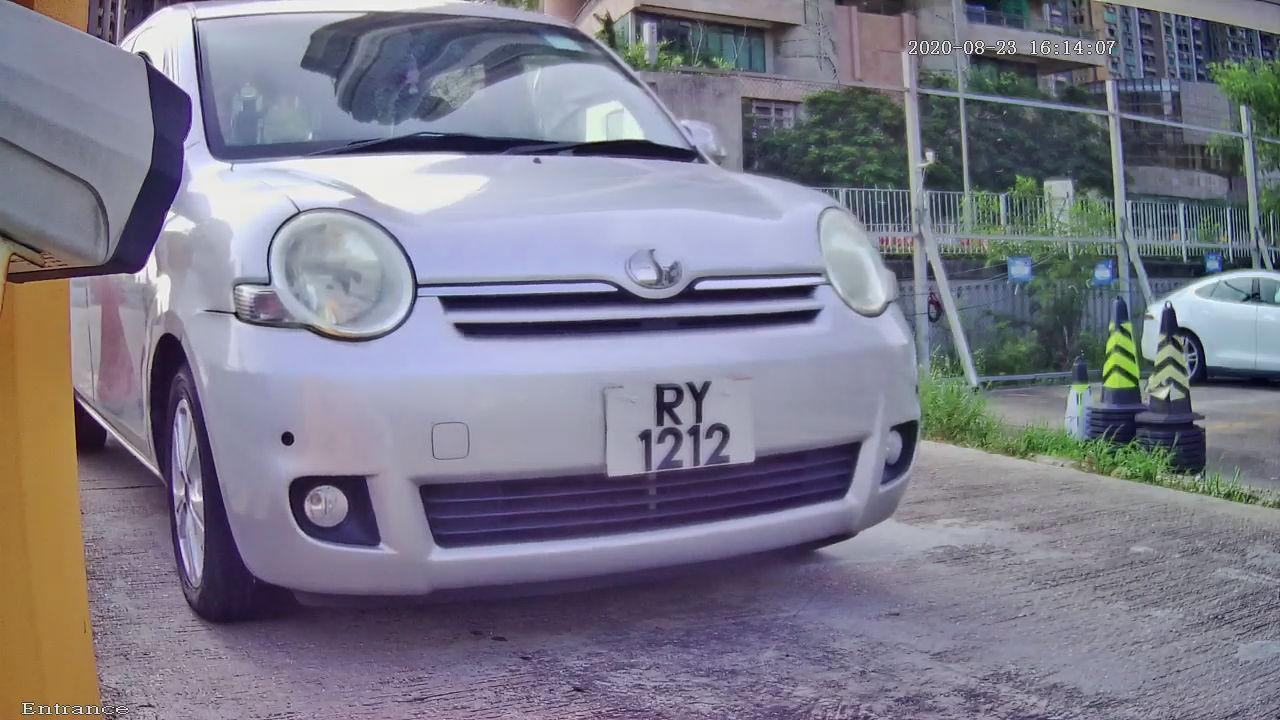Car: (40, 10, 989, 663)
License Plate: (595, 357, 772, 499)
